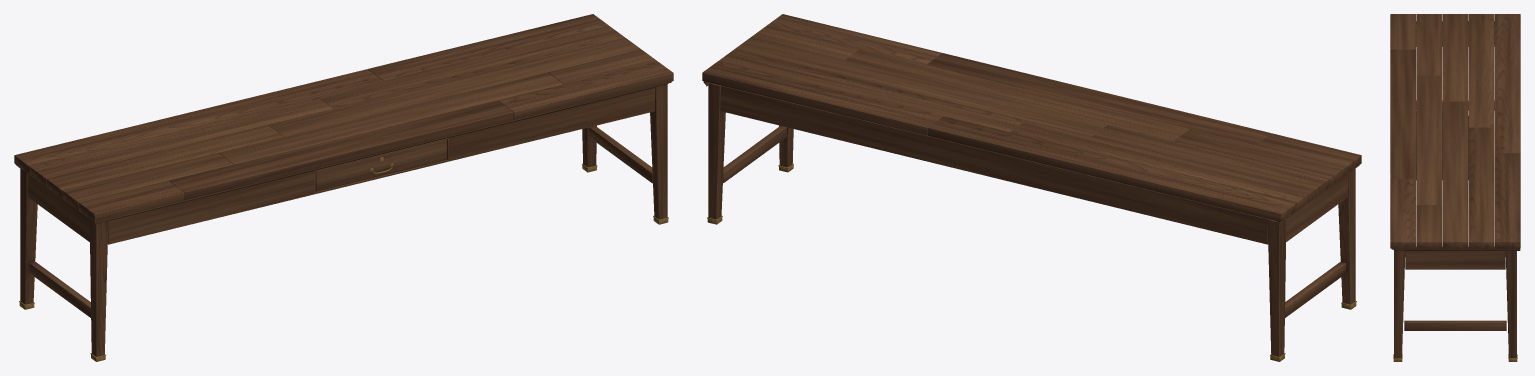
Rendered from desk.glb.
3 renders of one model, left to right at view 1: azimuth 30°, elevation 25°; view 2: azimuth 150°, elevation 25°; view 3: azimuth 270°, elevation 25°, orthographic. The views are drawn at different scales.
Visible parts, largest first — view 1: Desk_Top, Desk_Frame; view 2: Desk_Top, Desk_Frame; view 3: Desk_Top, Desk_Frame, Desk_DrawerBox.
Boxes of the visible parts, x1,y1,x2,y2 form: Desk_Top: (14, 14, 673, 221); Desk_Frame: (15, 81, 671, 356); Desk_Top: (702, 14, 1361, 221); Desk_Frame: (703, 81, 1359, 356); Desk_Top: (1390, 14, 1520, 248); Desk_Frame: (1391, 21, 1520, 357); Desk_DrawerBox: (1416, 111, 1468, 179).
Bounding box in the file's own units: 2.9 × 0.7203 × 0.6988.
5 materials, 4 textured.
